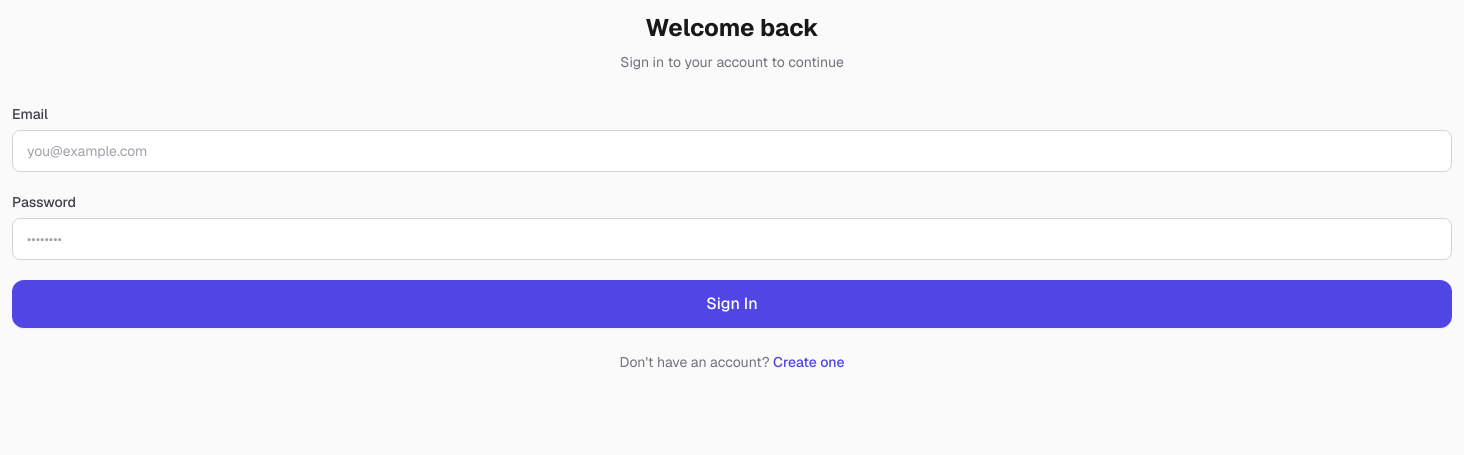
it: LoginForm › should show generic message when error has no message
The width and height of the screenshot is (1464, 455).
Type "test@example.com" into the field labelled "Email" at (732, 151), box [12,130,1452,172]
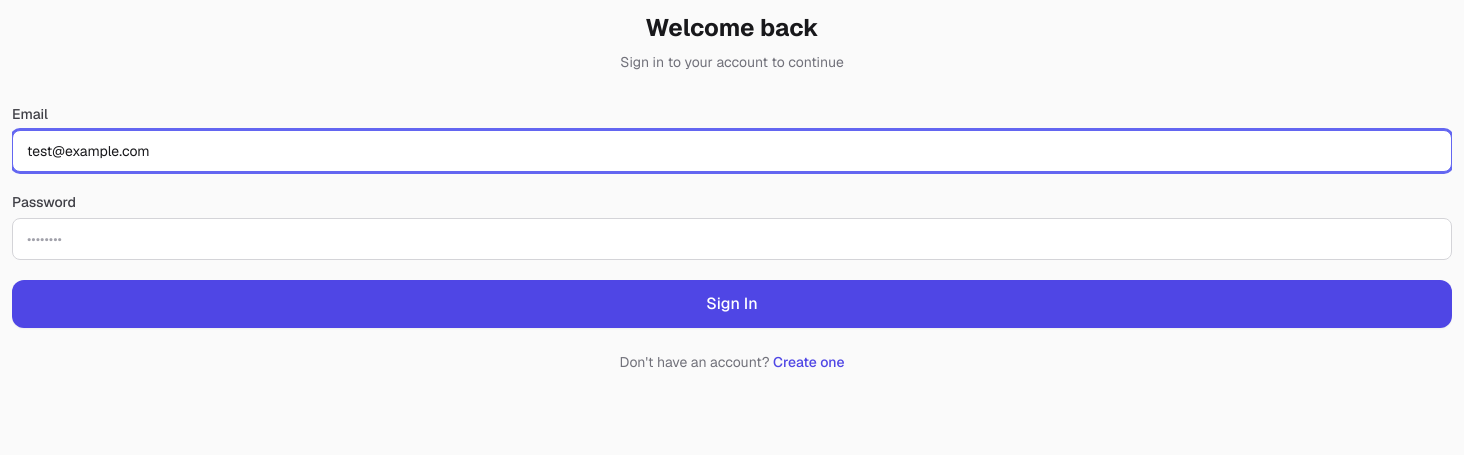
Type "Password1" into the password field labelled "Password" at (732, 239), box [12,218,1452,260]
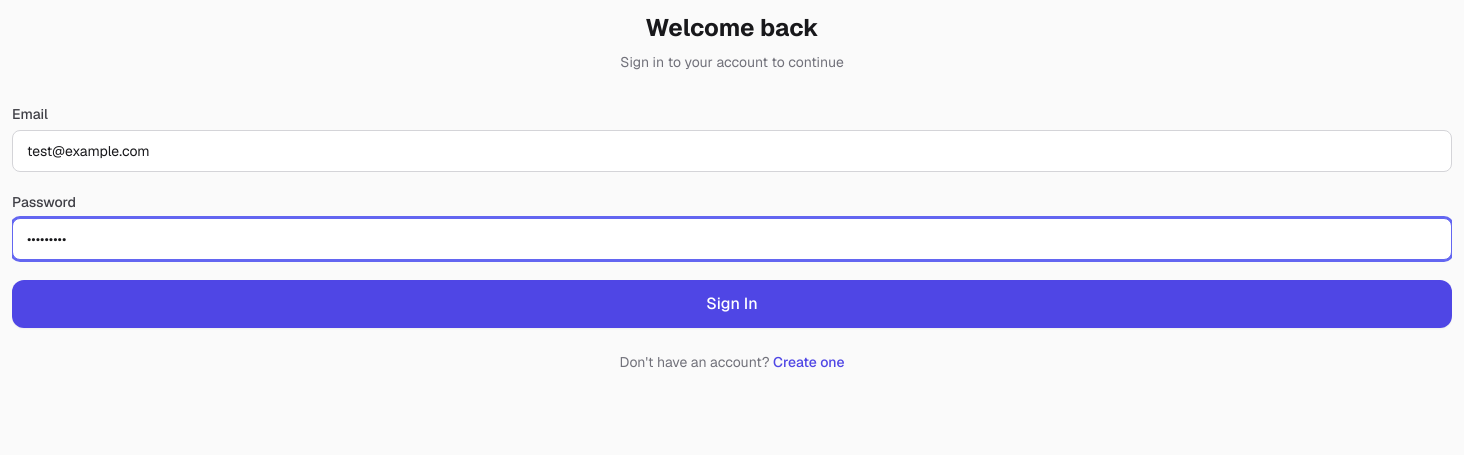
Click the button "Sign In" at (732, 304), box [12,280,1452,328]
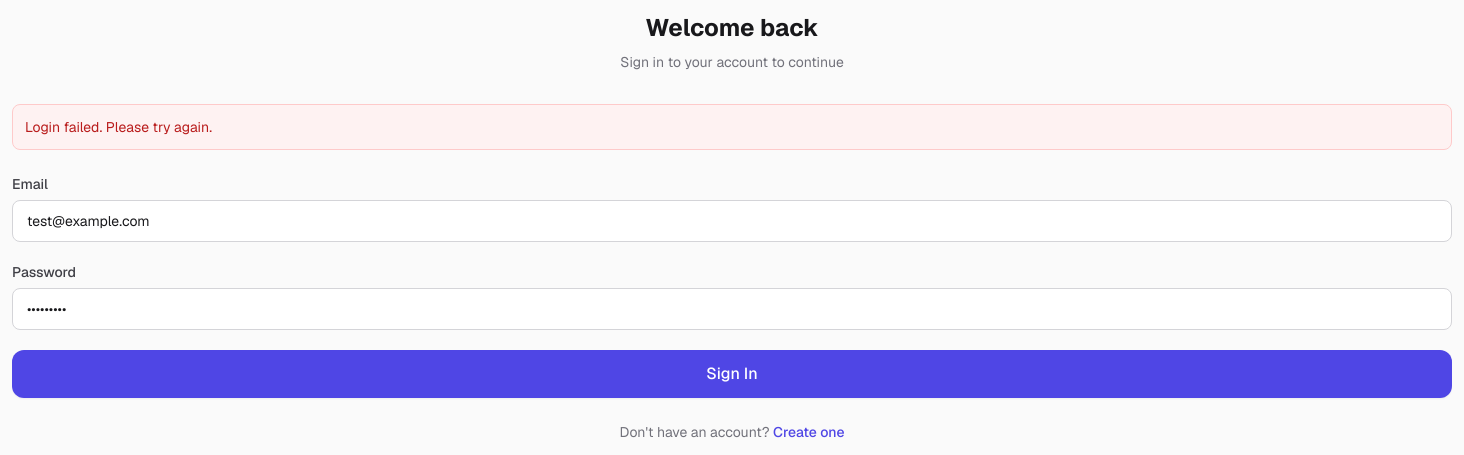
Expected: the text "Login failed. Please try again." is shown, [12,104,1452,150]
